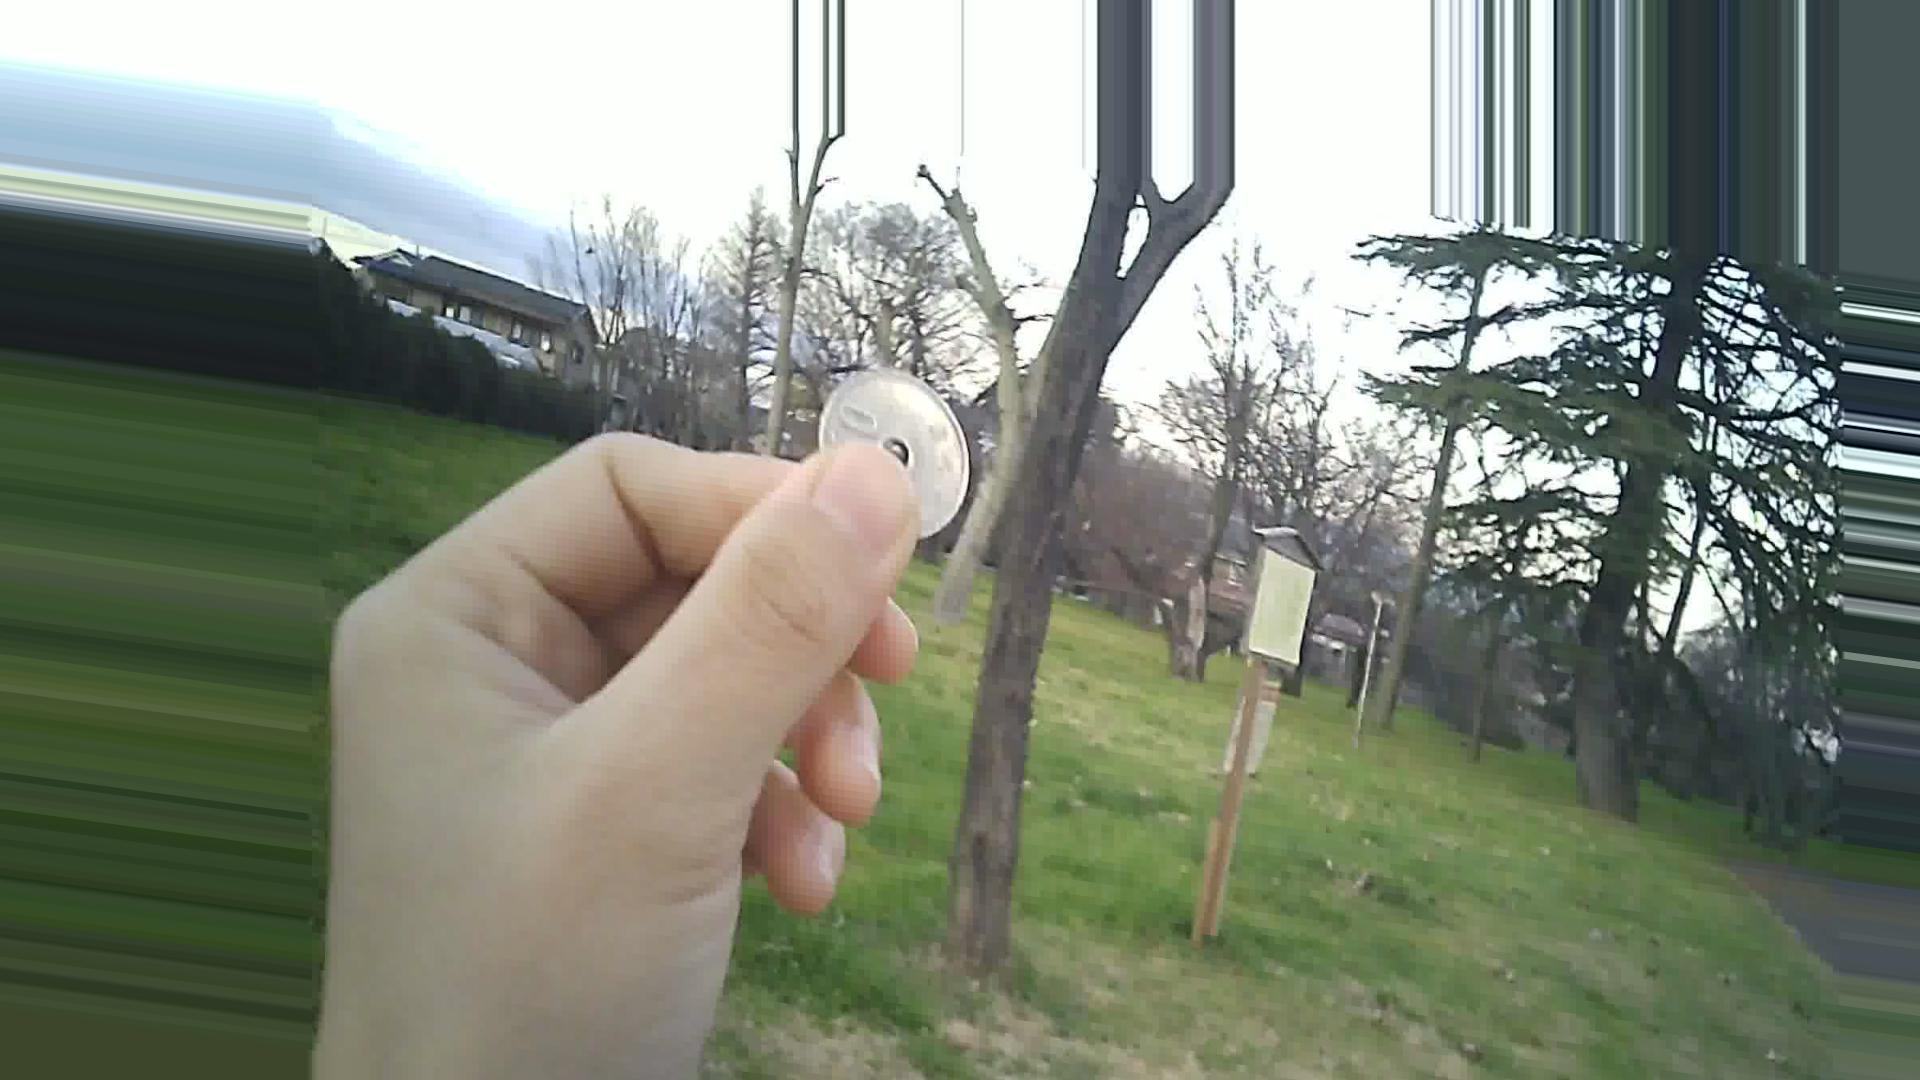50 Yen: (806, 363, 981, 554)
